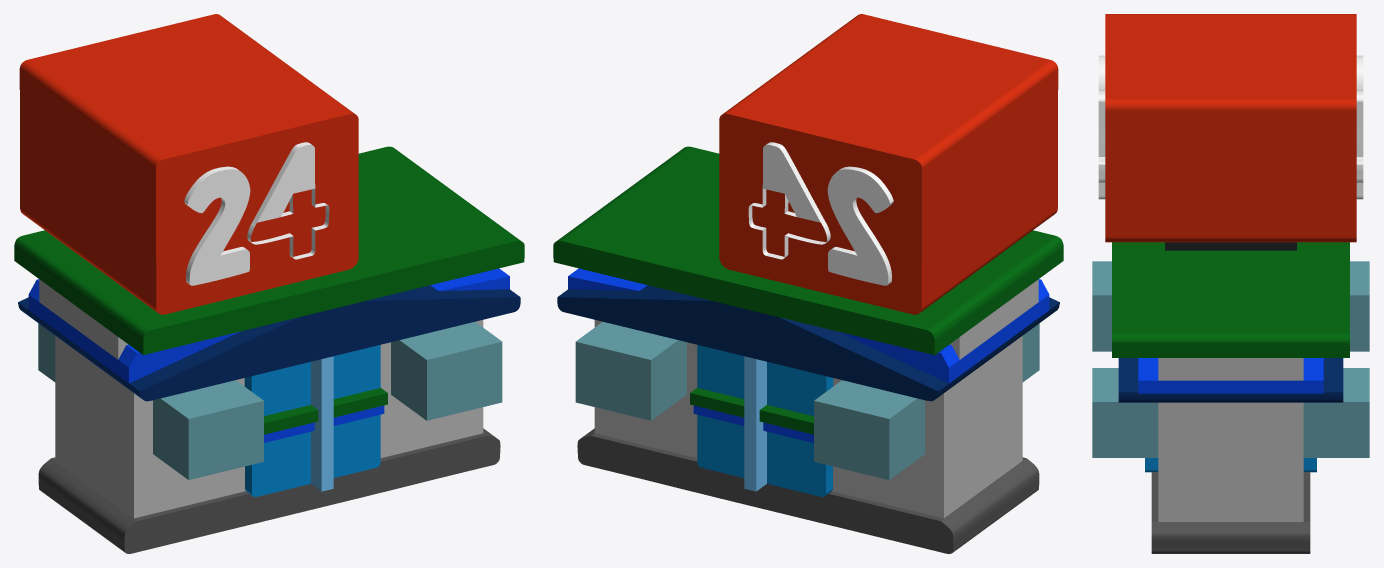
3 renders of one model, left to right at view 1: azimuth 30°, elevation 25°; view 2: azimuth 150°, elevation 25°; view 3: azimuth 270°, elevation 25°, orthographic. The views are drawn at different scales.
Parts seen in each view (by area): view 1: U+1F3EA_layer09_obj00, U+1F3EA_layer08_obj00, U+1F3EA_layer01_obj00, U+1F3EA_layer07_obj00, U+1F3EA_layer02_obj00, U+1F3EA_layer03_obj00, U+1F3EA_layer11_obj01, U+1F3EA_layer11_obj00, U+1F3EA_layer10_obj00, U+1F3EA_layer04_obj01, U+1F3EA_layer10_obj01, U+1F3EA_layer06_obj00 (+3 smaller); view 2: U+1F3EA_layer09_obj00, U+1F3EA_layer08_obj00, U+1F3EA_layer01_obj00, U+1F3EA_layer07_obj00, U+1F3EA_layer02_obj00, U+1F3EA_layer03_obj00, U+1F3EA_layer11_obj01, U+1F3EA_layer11_obj00, U+1F3EA_layer10_obj00, U+1F3EA_layer04_obj01, U+1F3EA_layer10_obj01, U+1F3EA_layer06_obj00 (+3 smaller); view 3: U+1F3EA_layer09_obj00, U+1F3EA_layer08_obj00, U+1F3EA_layer01_obj00, U+1F3EA_layer11_obj00, U+1F3EA_layer02_obj00, U+1F3EA_layer07_obj00, U+1F3EA_layer11_obj01, U+1F3EA_layer04_obj01, U+1F3EA_layer01_obj01, U+1F3EA_layer10_obj01, U+1F3EA_layer00_obj01, U+1F3EA_layer10_obj00 (+1 smaller).
Boxes of the visible parts, x1=… form: U+1F3EA_layer09_obj00: x1=19, y1=14, x2=358, y2=314; U+1F3EA_layer08_obj00: x1=14, y1=146, x2=524, y2=355; U+1F3EA_layer01_obj00: x1=55, y1=320, x2=483, y2=518; U+1F3EA_layer07_obj00: x1=18, y1=285, x2=520, y2=401; U+1F3EA_layer02_obj00: x1=38, y1=428, x2=500, y2=553; U+1F3EA_layer03_obj00: x1=244, y1=345, x2=380, y2=496; U+1F3EA_layer11_obj01: x1=38, y1=323, x2=263, y2=479; U+1F3EA_layer11_obj00: x1=391, y1=322, x2=502, y2=420; U+1F3EA_layer10_obj00: x1=184, y1=166, x2=250, y2=285; U+1F3EA_layer04_obj01: x1=28, y1=268, x2=509, y2=383; U+1F3EA_layer10_obj01: x1=247, y1=142, x2=329, y2=259; U+1F3EA_layer06_obj00: x1=311, y1=356, x2=333, y2=491; U+1F3EA_layer09_obj00: x1=719, y1=14, x2=1058, y2=314; U+1F3EA_layer08_obj00: x1=553, y1=146, x2=1063, y2=355; U+1F3EA_layer01_obj00: x1=594, y1=320, x2=1022, y2=518; U+1F3EA_layer07_obj00: x1=557, y1=285, x2=1059, y2=401; U+1F3EA_layer02_obj00: x1=577, y1=428, x2=1039, y2=553; U+1F3EA_layer03_obj00: x1=697, y1=345, x2=833, y2=496; U+1F3EA_layer11_obj01: x1=814, y1=323, x2=1039, y2=479; U+1F3EA_layer11_obj00: x1=575, y1=322, x2=686, y2=420; U+1F3EA_layer10_obj00: x1=827, y1=166, x2=893, y2=285; U+1F3EA_layer04_obj01: x1=568, y1=268, x2=1049, y2=383; U+1F3EA_layer10_obj01: x1=748, y1=142, x2=830, y2=259; U+1F3EA_layer06_obj00: x1=744, y1=356, x2=766, y2=491; U+1F3EA_layer09_obj00: x1=1105, y1=14, x2=1356, y2=242; U+1F3EA_layer08_obj00: x1=1112, y1=242, x2=1349, y2=357; U+1F3EA_layer01_obj00: x1=1158, y1=402, x2=1303, y2=521; U+1F3EA_layer11_obj00: x1=1092, y1=368, x2=1369, y2=457; U+1F3EA_layer02_obj00: x1=1151, y1=472, x2=1310, y2=553; U+1F3EA_layer07_obj00: x1=1118, y1=358, x2=1343, y2=402; U+1F3EA_layer11_obj01: x1=1092, y1=261, x2=1369, y2=351; U+1F3EA_layer04_obj01: x1=1138, y1=358, x2=1323, y2=393; U+1F3EA_layer01_obj01: x1=1158, y1=358, x2=1303, y2=380; U+1F3EA_layer10_obj01: x1=1098, y1=90, x2=1363, y2=199; U+1F3EA_layer00_obj01: x1=1165, y1=242, x2=1296, y2=250; U+1F3EA_layer10_obj00: x1=1098, y1=55, x2=1363, y2=90.
Bounding box in the file's own units: 0.3073 × 0.3163 × 0.21.
